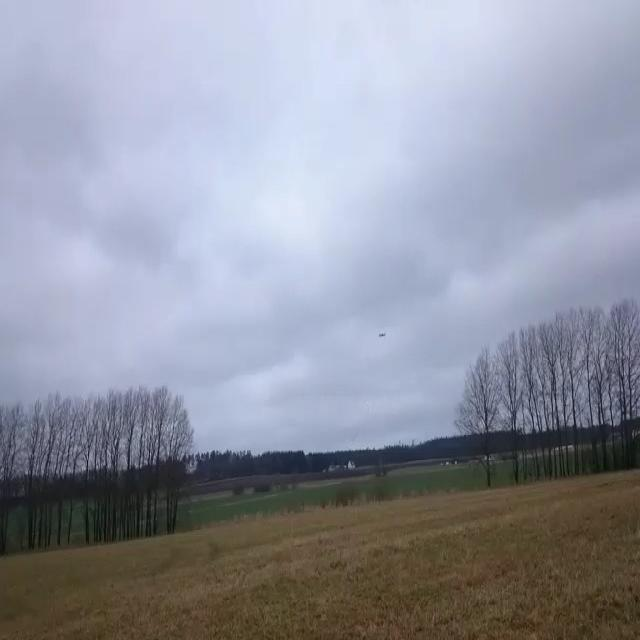drone: (379, 332, 386, 337)
